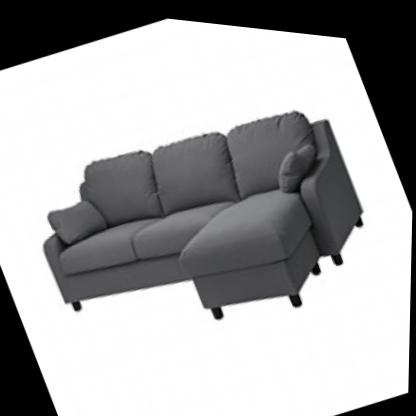Sofa: (2, 47, 402, 415)
